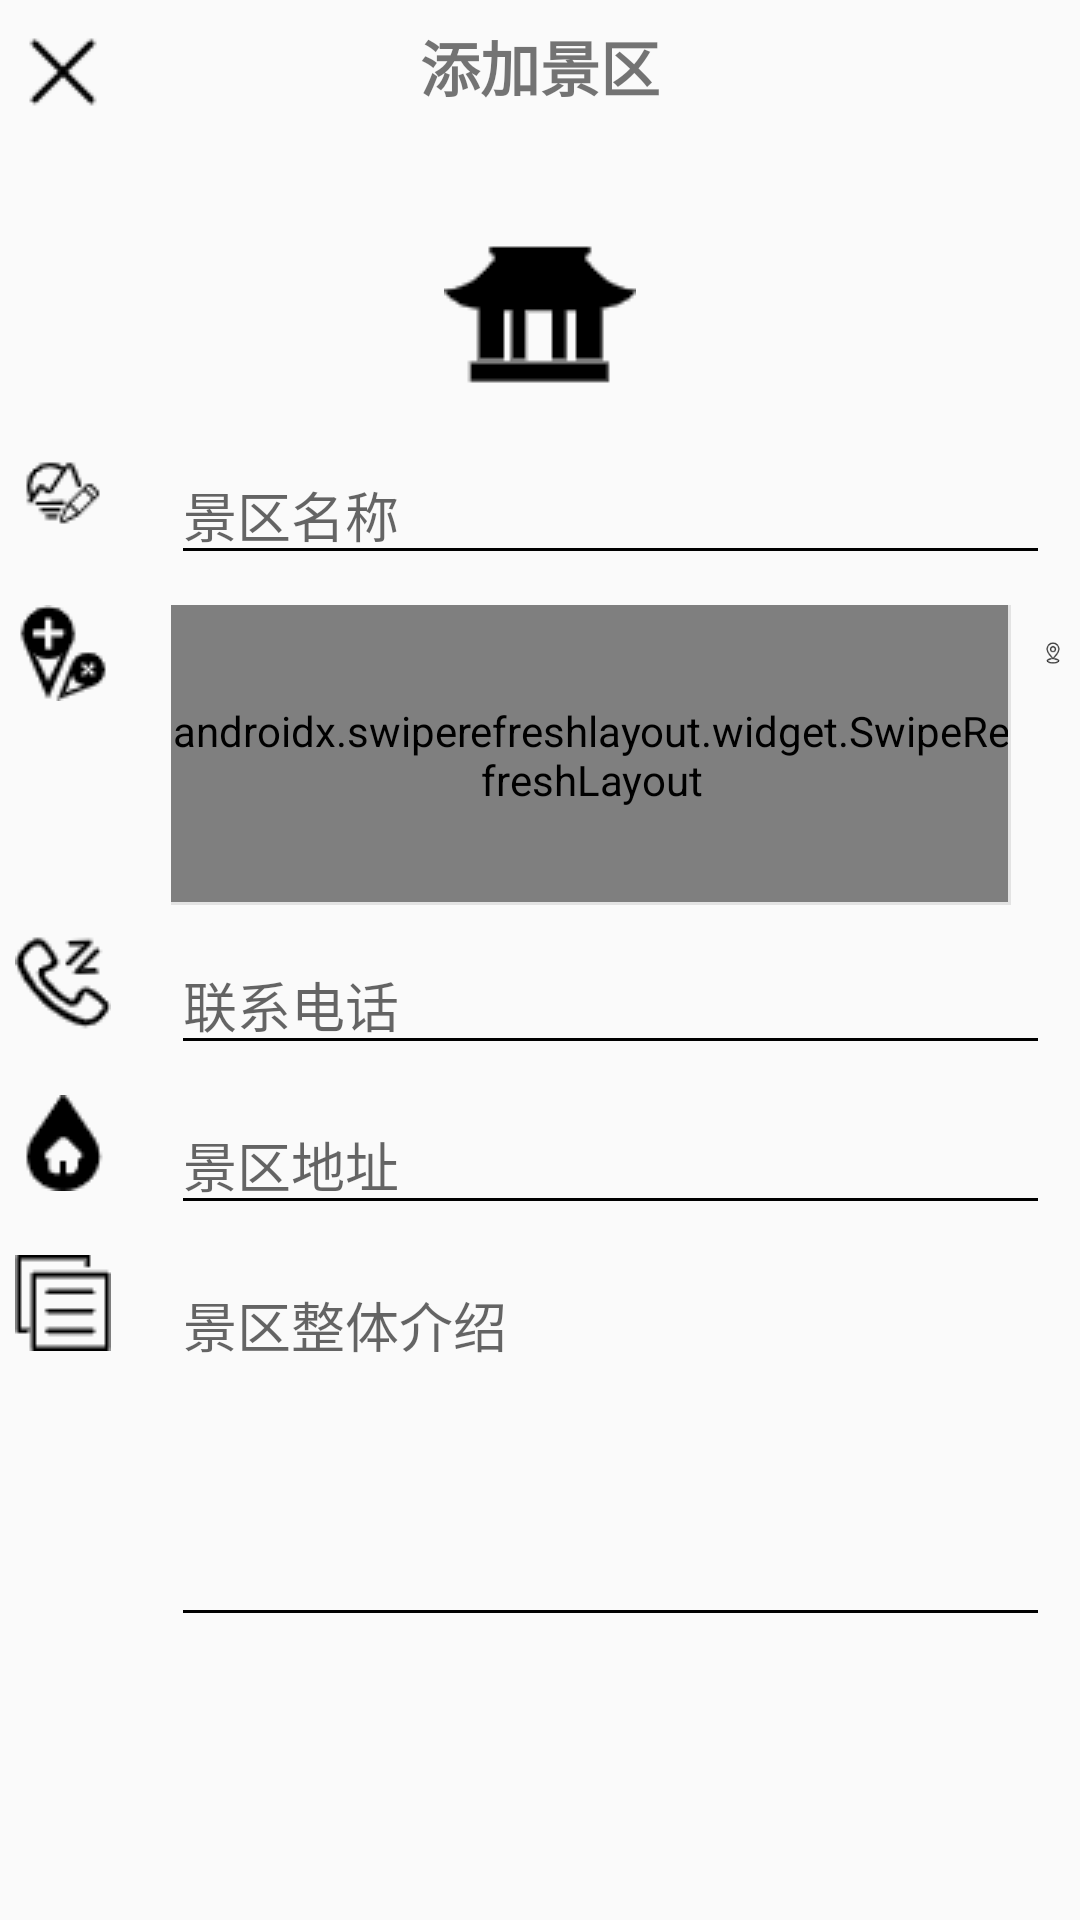

Point at icon controls on the screen. Image size 1080 x 1920, points as (x,y).
address: (64,1143)
back: (63,72)
phone: (63,982)
sight: (540,314)
sight coordinate: (63,653)
sight introduce: (63,1303)
sight name: (63,493)
